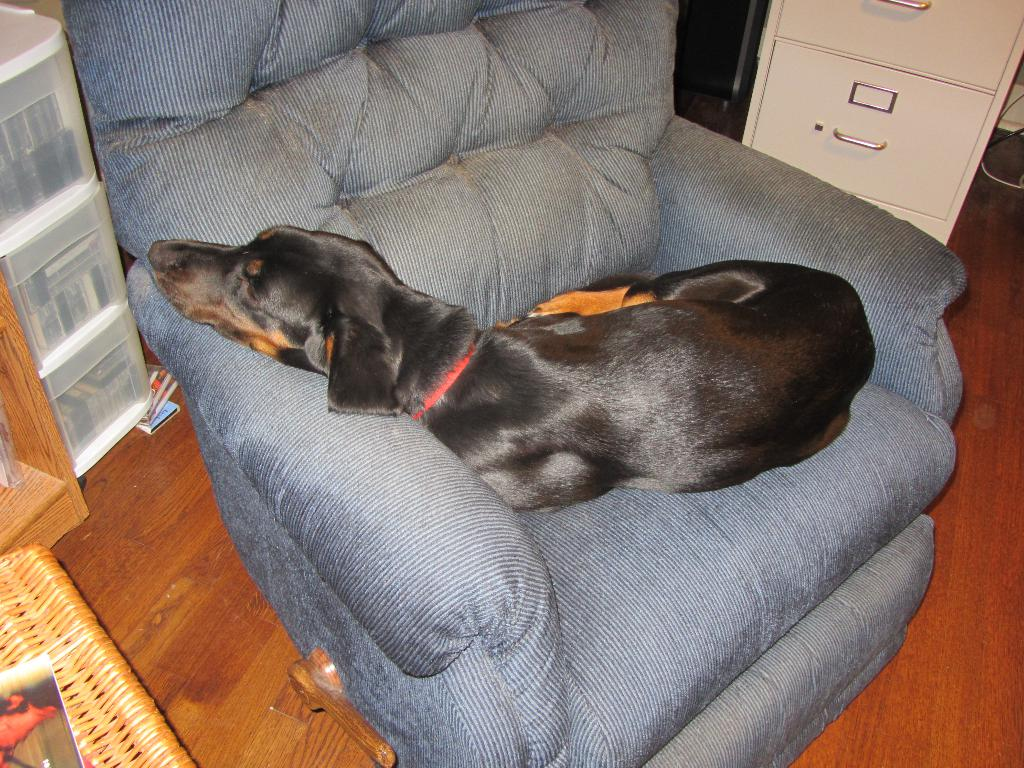cabinet door: (774, 63, 963, 199), (792, 1, 998, 79)
handle: (835, 124, 887, 153)
